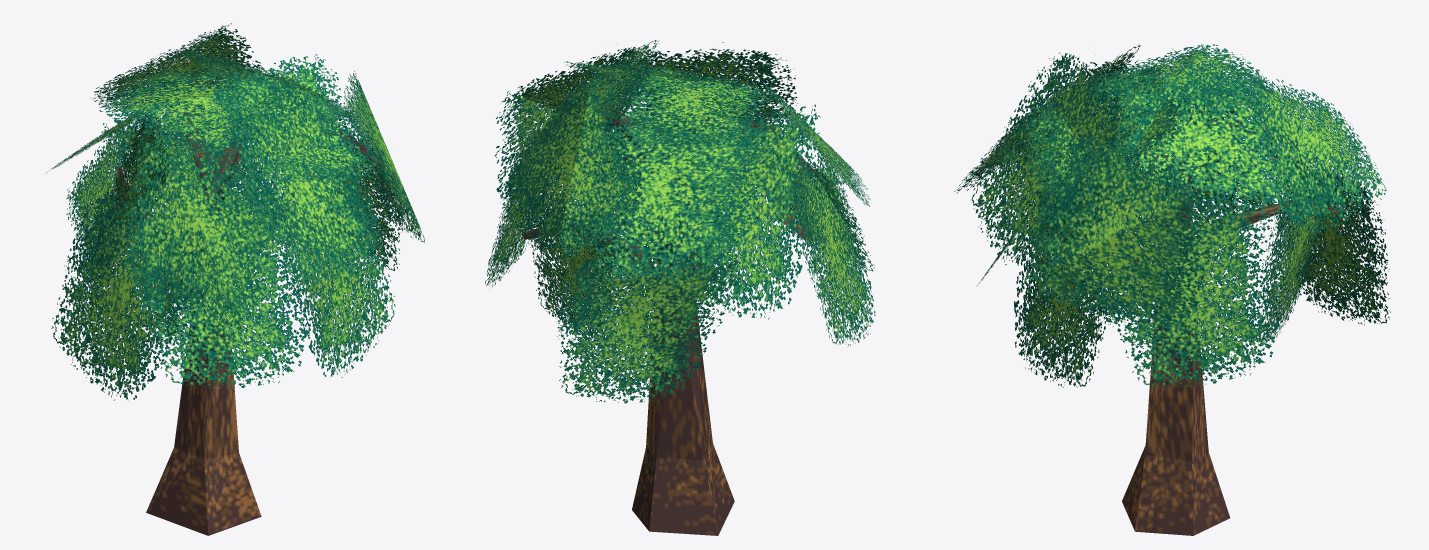
The model's file is Tree.fbx.
3 views of the same model, side by side, from view 1: azimuth 30°, elevation 25°; view 2: azimuth 150°, elevation 25°; view 3: azimuth 270°, elevation 25° (orthographic). The views are drawn at different scales.
Parts seen in each view (by area): view 1: Leaves, Trunk, Branchs; view 2: Leaves, Trunk, Branchs; view 3: Leaves, Trunk, Branchs.
Boxes of the visible parts, x1=… form: Leaves: x1=46, y1=23, x2=425, y2=400; Trunk: x1=146, y1=201, x2=261, y2=535; Branchs: x1=117, y1=75, x2=389, y2=323; Leaves: x1=485, y1=40, x2=875, y2=403; Trunk: x1=632, y1=195, x2=734, y2=535; Branchs: x1=522, y1=103, x2=826, y2=309; Leaves: x1=954, y1=44, x2=1390, y2=387; Trunk: x1=1122, y1=186, x2=1230, y2=535; Branchs: x1=1054, y1=116, x2=1341, y2=351.
Bounding box in the file's own units: 663 × 840 × 756.
